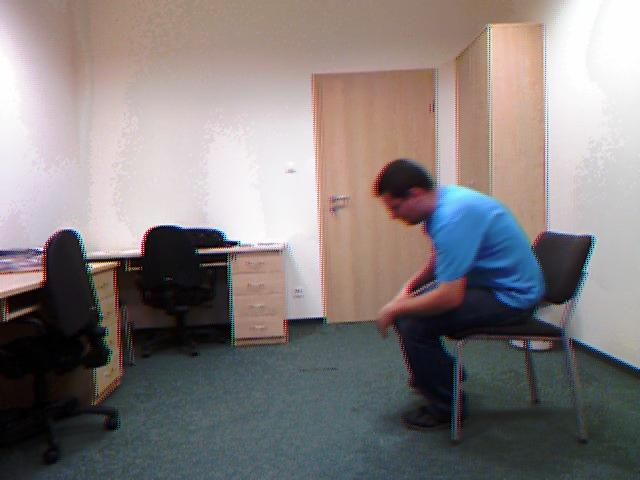near-fall: (374, 159, 544, 429)
